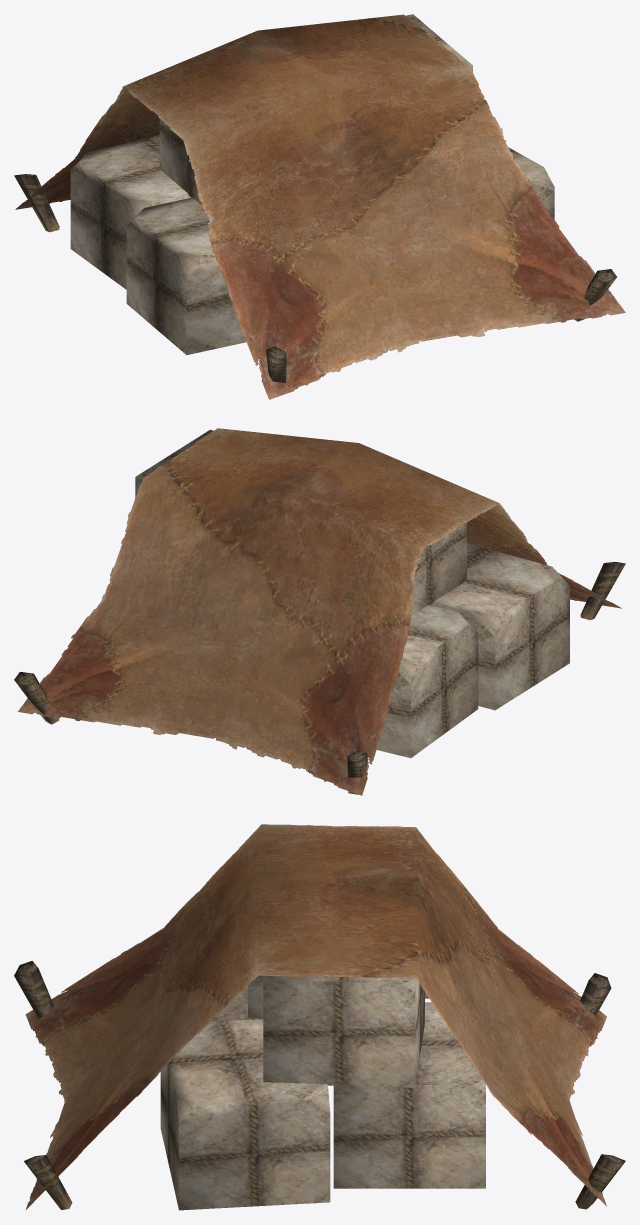
Rendered from ruin_takla_tent03_01.glb.
3 renders of one model, top to bottom at view 1: azimuth 30°, elevation 25°; view 2: azimuth 150°, elevation 25°; view 3: azimuth 270°, elevation 25°, orthographic. The views are drawn at different scales.
Visible parts, largest first — view 1: ruin_takla_tent03_01, ruin_takla_tent03_03, ruin_takla_tent03_02; view 2: ruin_takla_tent03_01, ruin_takla_tent03_03, ruin_takla_tent03_02; view 3: ruin_takla_tent03_01, ruin_takla_tent03_03, ruin_takla_tent03_02.
Part boxes in pixels (x1=…): ruin_takla_tent03_01: x1=15, y1=14, x2=625, y2=399; ruin_takla_tent03_03: x1=70, y1=14, x2=554, y2=354; ruin_takla_tent03_02: x1=14, y1=174, x2=616, y2=383; ruin_takla_tent03_01: x1=18, y1=428, x2=621, y2=795; ruin_takla_tent03_03: x1=135, y1=429, x2=569, y2=758; ruin_takla_tent03_02: x1=14, y1=562, x2=625, y2=794; ruin_takla_tent03_01: x1=25, y1=824, x2=606, y2=1209; ruin_takla_tent03_03: x1=160, y1=839, x2=485, y2=1210; ruin_takla_tent03_02: x1=14, y1=961, x2=625, y2=1209.
Bounding box in the file's own units: 1.78 × 0.9918 × 2.26.
3 materials, 3 textured.
